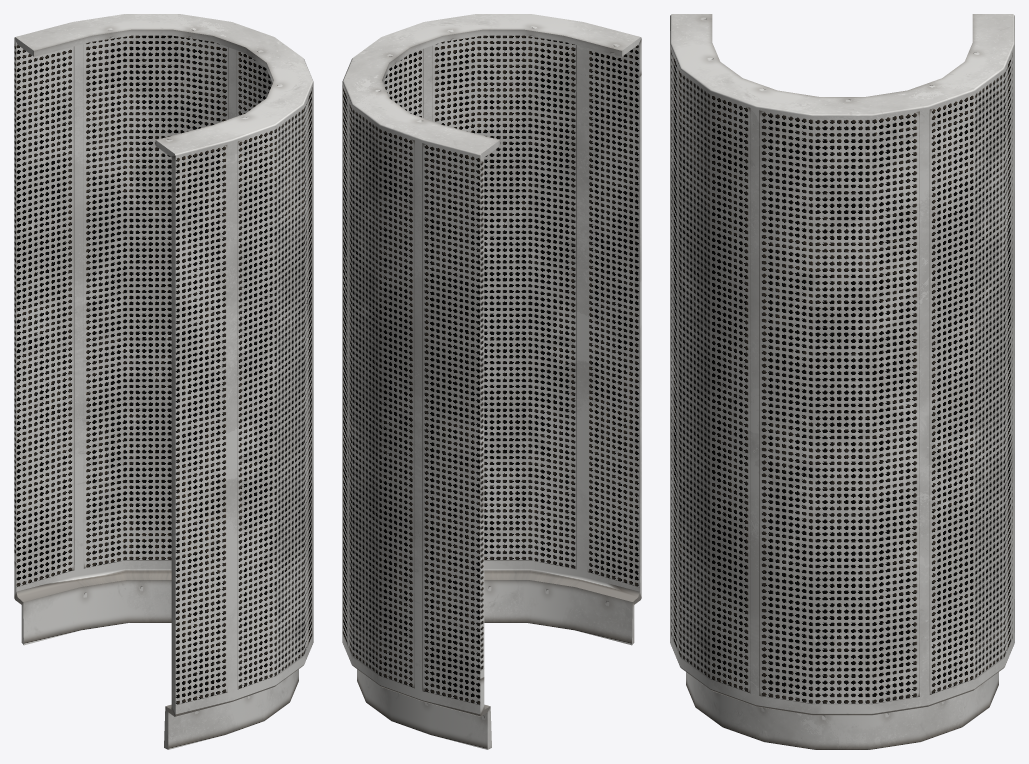
Rendered from boxing gym_air_duct_junction.fbx.
The picture shows the model from 3 angles, left to right: view 1: azimuth 30°, elevation 25°; view 2: azimuth 150°, elevation 25°; view 3: azimuth 270°, elevation 25°; orthographic projection. The views are drawn at different scales.
Visible parts, largest first — view 1: air_duct_junction_half_LOD0; view 2: air_duct_junction_half_LOD0; view 3: air_duct_junction_half_LOD0.
Part boxes in pixels (x1=…): air_duct_junction_half_LOD0: x1=14, y1=14, x2=313, y2=749; air_duct_junction_half_LOD0: x1=342, y1=14, x2=641, y2=749; air_duct_junction_half_LOD0: x1=670, y1=14, x2=1014, y2=749.
Size of what is drawn, in the model's own units: 0.3415 by 0.4869 by 1.
